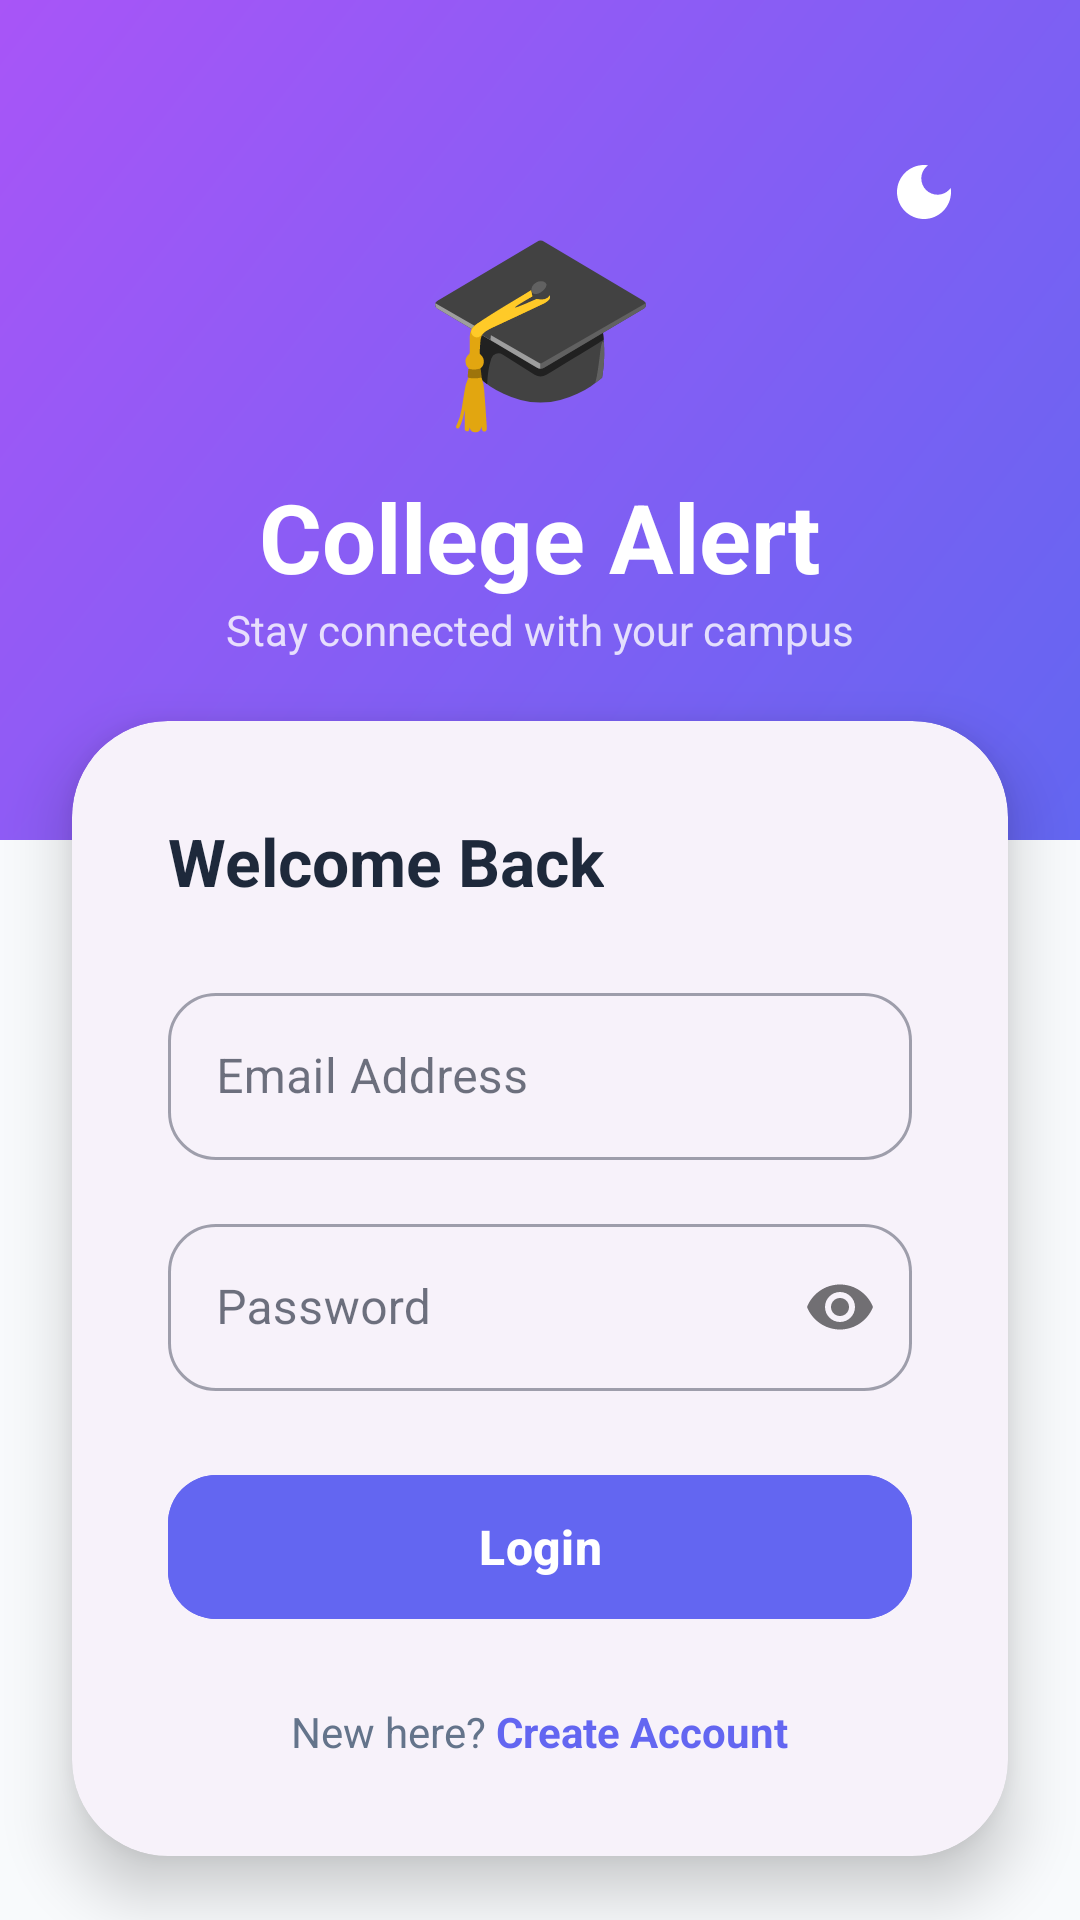

Where icons sit on this 1080w x 1920h app screen, as (x1, y1, x2, y2):
theme: (897, 165, 951, 219)
